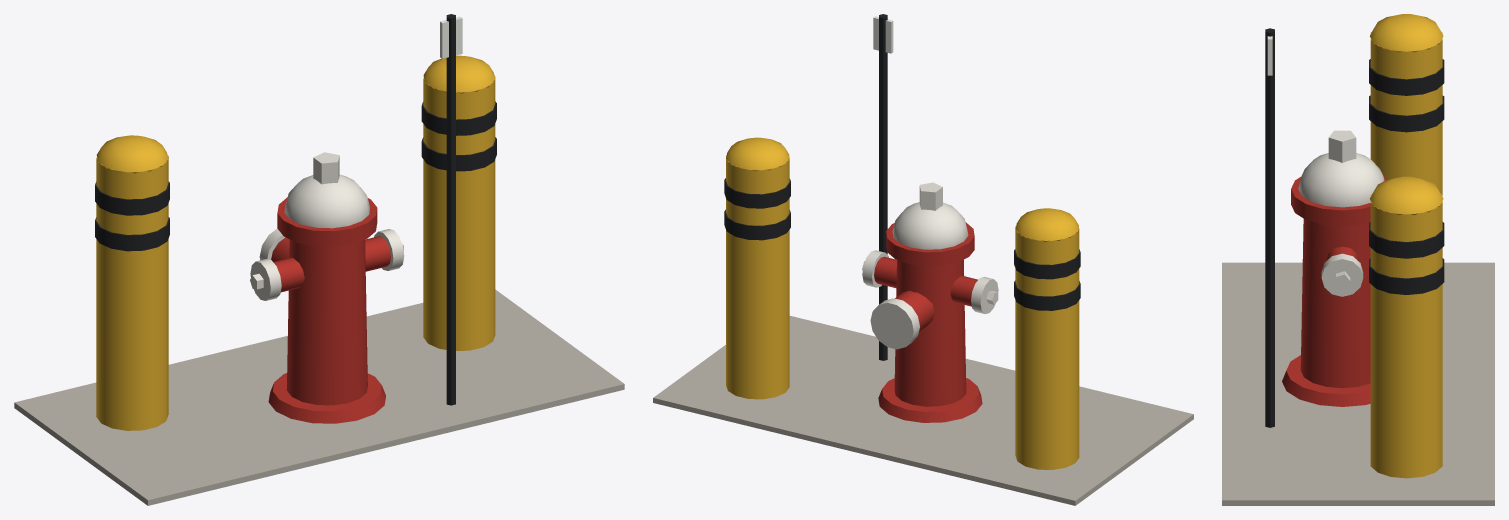
The model's file is hydrant_cluster.glb.
3 views of the same model, side by side, from view 1: azimuth 30°, elevation 25°; view 2: azimuth 150°, elevation 25°; view 3: azimuth 270°, elevation 25° (orthographic). The views are drawn at different scales.
Visible parts, largest first — view 1: hydrant_cluster; view 2: hydrant_cluster; view 3: hydrant_cluster.
Part boxes in pixels (x1,y1,x2,y2): hydrant_cluster: (14,14,624,505); hydrant_cluster: (653,14,1193,505); hydrant_cluster: (1222,14,1494,505).
Bounding box in the file's own units: 7 × 5.51 × 3.4.
